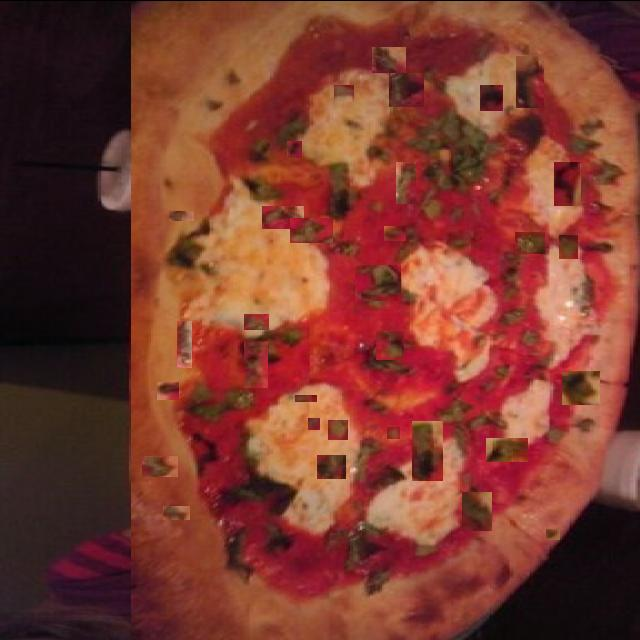basil: (278, 459, 323, 522), (412, 420, 443, 480), (355, 264, 401, 300), (314, 489, 365, 521), (491, 270, 529, 312), (516, 55, 544, 107), (562, 370, 600, 404), (389, 72, 424, 106), (554, 161, 581, 205), (462, 491, 492, 530), (492, 138, 539, 162), (244, 340, 268, 387), (290, 217, 333, 242), (528, 221, 582, 240), (486, 437, 528, 461), (262, 205, 304, 228), (372, 46, 406, 72), (396, 161, 416, 203), (376, 330, 404, 359), (142, 455, 178, 476), (177, 318, 192, 366), (317, 454, 346, 478), (515, 231, 545, 253), (480, 84, 503, 110), (498, 478, 520, 500), (166, 486, 196, 502), (559, 234, 578, 258), (223, 292, 247, 310), (328, 419, 348, 439), (244, 313, 269, 329), (157, 381, 179, 399), (163, 505, 190, 519), (413, 384, 433, 401), (334, 84, 354, 101), (469, 294, 493, 308), (384, 225, 406, 240), (354, 330, 368, 350), (288, 140, 304, 157), (526, 556, 544, 570), (169, 210, 194, 220), (550, 362, 568, 374), (267, 436, 282, 448), (387, 426, 400, 438), (546, 528, 560, 539), (295, 394, 317, 401), (308, 417, 320, 429)
pizza: (131, 0, 640, 639)
